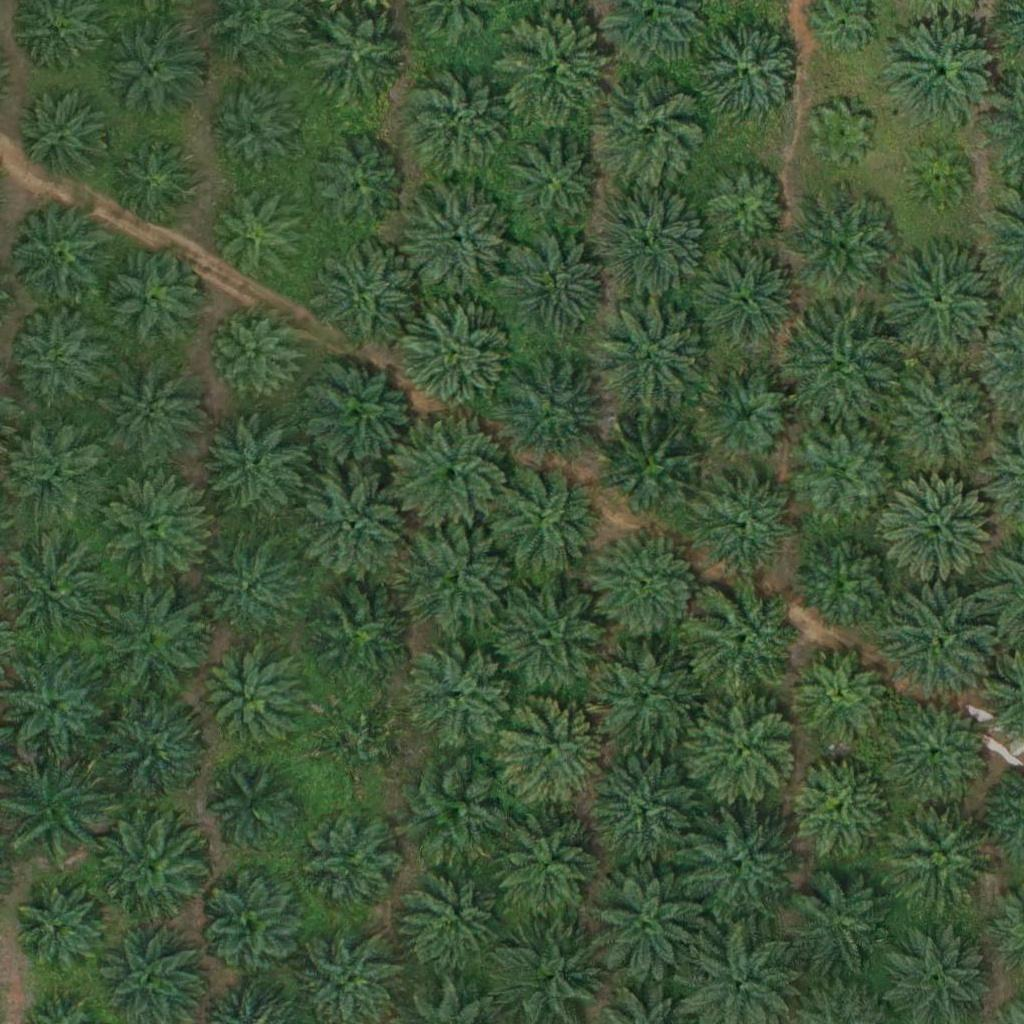Kelapa_Sawit: (599, 411, 712, 525), (307, 236, 420, 350), (484, 463, 597, 577), (591, 529, 704, 643), (689, 582, 802, 696), (686, 693, 799, 807), (787, 865, 900, 979), (886, 19, 999, 132), (883, 245, 996, 358), (591, 74, 704, 187), (595, 187, 708, 300), (596, 302, 709, 415), (496, 12, 609, 125), (498, 132, 611, 245), (299, 357, 412, 470), (97, 243, 210, 356), (298, 472, 411, 585), (301, 578, 414, 691), (399, 760, 512, 873), (587, 642, 700, 755), (883, 475, 996, 588), (684, 809, 797, 922), (95, 809, 208, 922), (494, 351, 606, 465), (404, 182, 516, 296), (400, 303, 512, 417), (881, 800, 993, 914), (883, 364, 995, 477), (787, 191, 899, 304), (786, 313, 898, 426), (695, 18, 807, 131), (689, 249, 801, 362), (499, 234, 611, 347), (405, 66, 517, 179), (100, 356, 212, 469), (4, 200, 116, 313), (98, 471, 210, 584), (97, 586, 209, 699), (100, 697, 212, 810), (395, 418, 507, 531), (400, 522, 512, 635), (401, 640, 513, 753), (496, 581, 608, 694), (497, 696, 609, 809), (594, 749, 706, 862), (881, 588, 993, 701), (879, 698, 991, 811), (592, 868, 704, 981), (492, 812, 604, 925), (697, 366, 797, 467), (6, 308, 106, 409), (7, 419, 107, 520), (206, 413, 306, 514), (195, 538, 295, 639), (204, 658, 304, 759), (203, 755, 303, 856), (797, 421, 897, 522), (798, 531, 898, 632), (399, 871, 499, 972), (306, 810, 406, 911), (201, 874, 301, 975), (305, 9, 405, 109), (306, 139, 406, 239), (205, 182, 305, 282), (102, 24, 202, 124), (700, 471, 800, 571), (796, 646, 896, 746), (792, 758, 892, 858), (701, 159, 789, 247), (17, 97, 105, 185), (16, 887, 104, 975), (322, 702, 409, 791), (207, 90, 294, 178), (214, 309, 301, 397), (105, 137, 192, 225), (907, 146, 970, 209), (810, 103, 873, 166)
